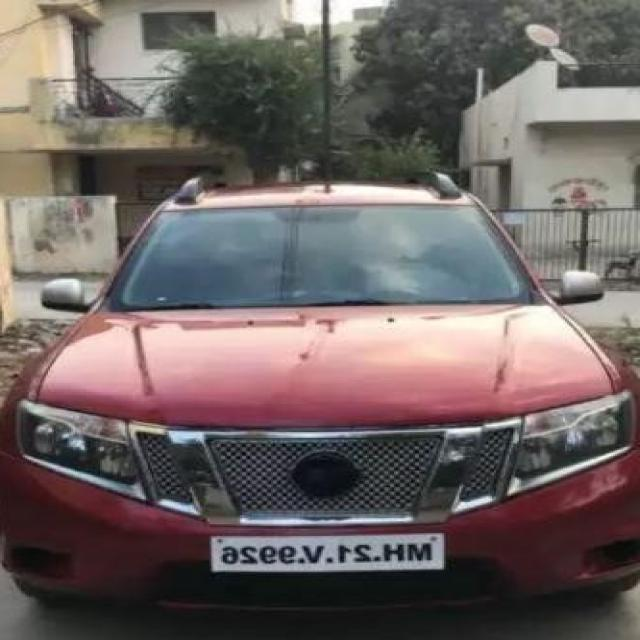number-plate: (199, 524, 447, 573)
